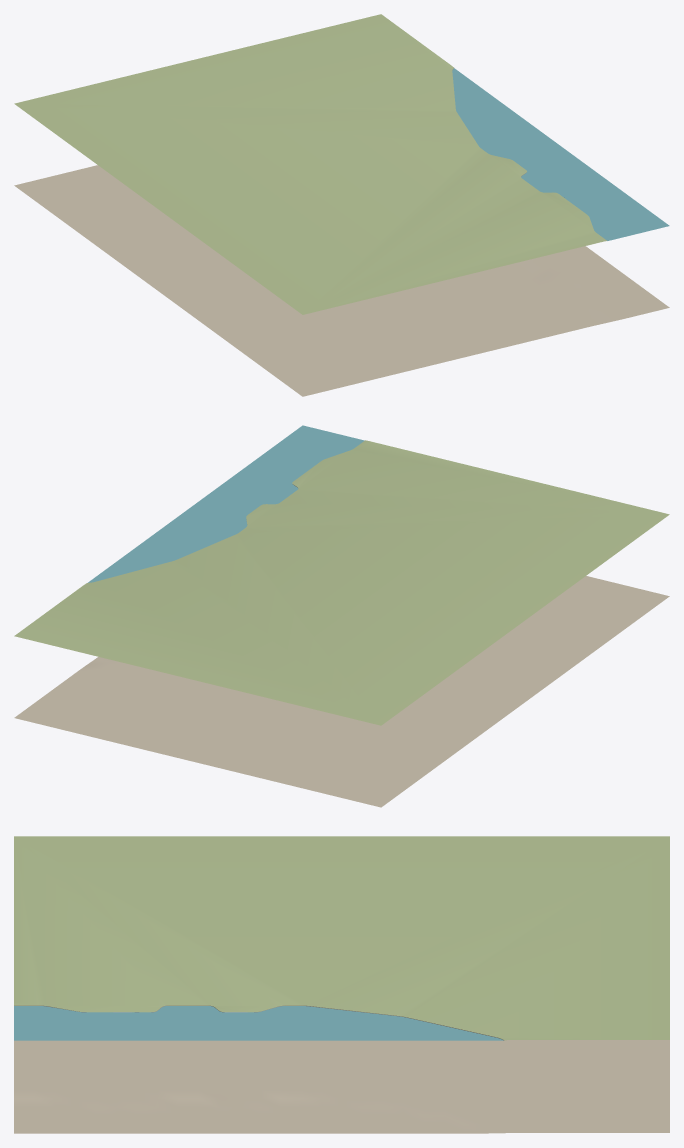
3 views of the same model, one above another, from view 1: azimuth 30°, elevation 25°; view 2: azimuth 150°, elevation 25°; view 3: azimuth 270°, elevation 25° (orthographic). The views are drawn at different scales.
Parts seen in each view (by area): view 1: s_-13_-7__grass, s_-13_-7__soil, s_-13_-7__water; view 2: s_-13_-7__grass, s_-13_-7__soil, s_-13_-7__water; view 3: s_-13_-7__grass, s_-13_-7__soil, s_-13_-7__water.
Part boxes in pixels (x1,y1,x2,y2): s_-13_-7__grass: (14, 14, 606, 314); s_-13_-7__soil: (14, 165, 669, 396); s_-13_-7__water: (452, 68, 669, 240); s_-13_-7__grass: (14, 440, 669, 725); s_-13_-7__soil: (14, 576, 669, 807); s_-13_-7__water: (88, 425, 364, 582); s_-13_-7__grass: (14, 836, 669, 1040); s_-13_-7__soil: (14, 1012, 669, 1133); s_-13_-7__water: (14, 1006, 503, 1040).
Size of the model in its own units: 94 by 20.14 by 128.
